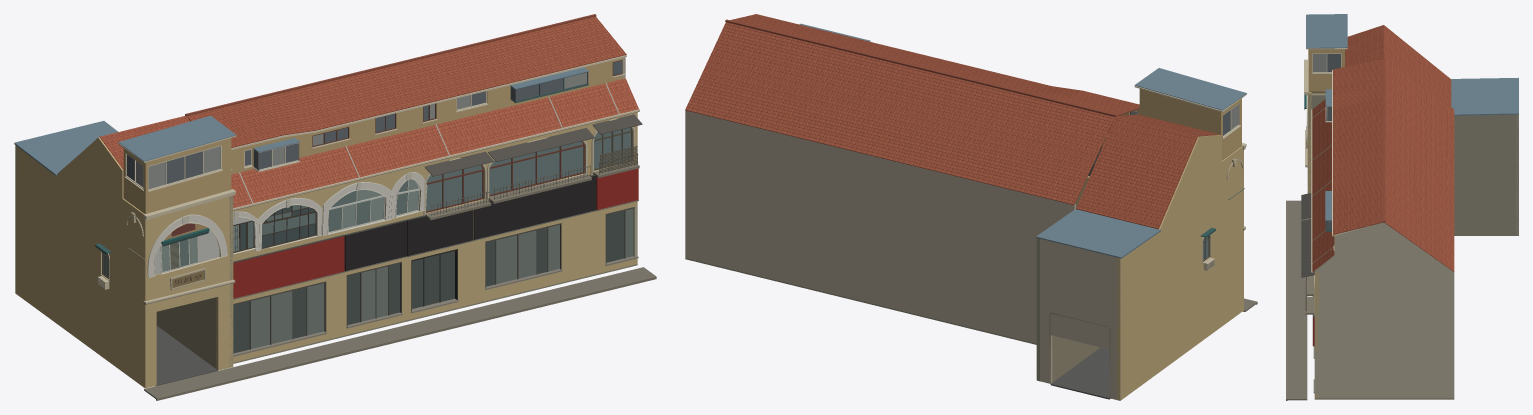
The model's file is changning-hengchang-li-yuyuan-road-gatehouse-2018.glb.
3 views of the same model, side by side, from view 1: azimuth 30°, elevation 25°; view 2: azimuth 150°, elevation 25°; view 3: azimuth 270°, elevation 25° (orthographic). The views are drawn at different scales.
Parts seen in each view (by area): view 1: 亨昌里南口过街楼，2018年街面旧貌; view 2: 亨昌里南口过街楼，2018年街面旧貌; view 3: 亨昌里南口过街楼，2018年街面旧貌.
Part boxes in pixels (x1,y1,x2,y2): 亨昌里南口过街楼，2018年街面旧貌: [14, 14, 656, 400]; 亨昌里南口过街楼，2018年街面旧貌: [685, 14, 1257, 400]; 亨昌里南口过街楼，2018年街面旧貌: [1286, 14, 1518, 400].
Size of the model in its own units: 36.27 by 16.21 by 17.85.
Materials: 58 (1 with a texture image).
